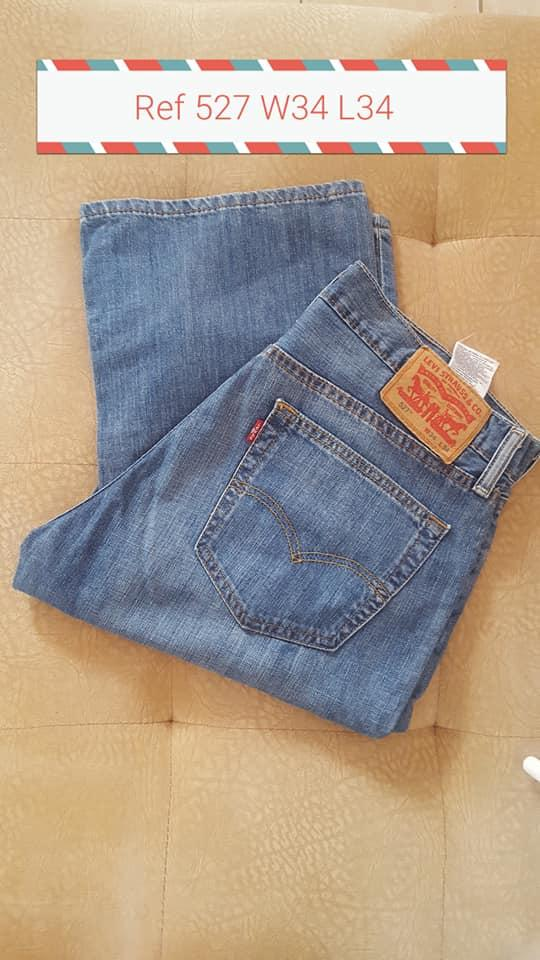jeans: (0, 165, 540, 751)
